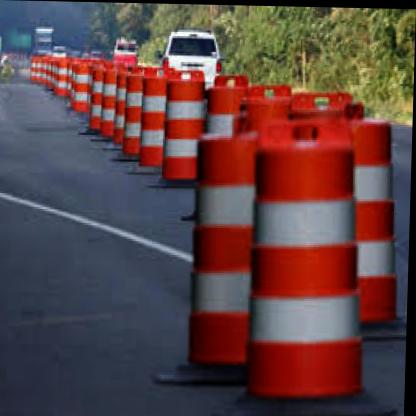obstacle: (235, 124, 370, 412)
